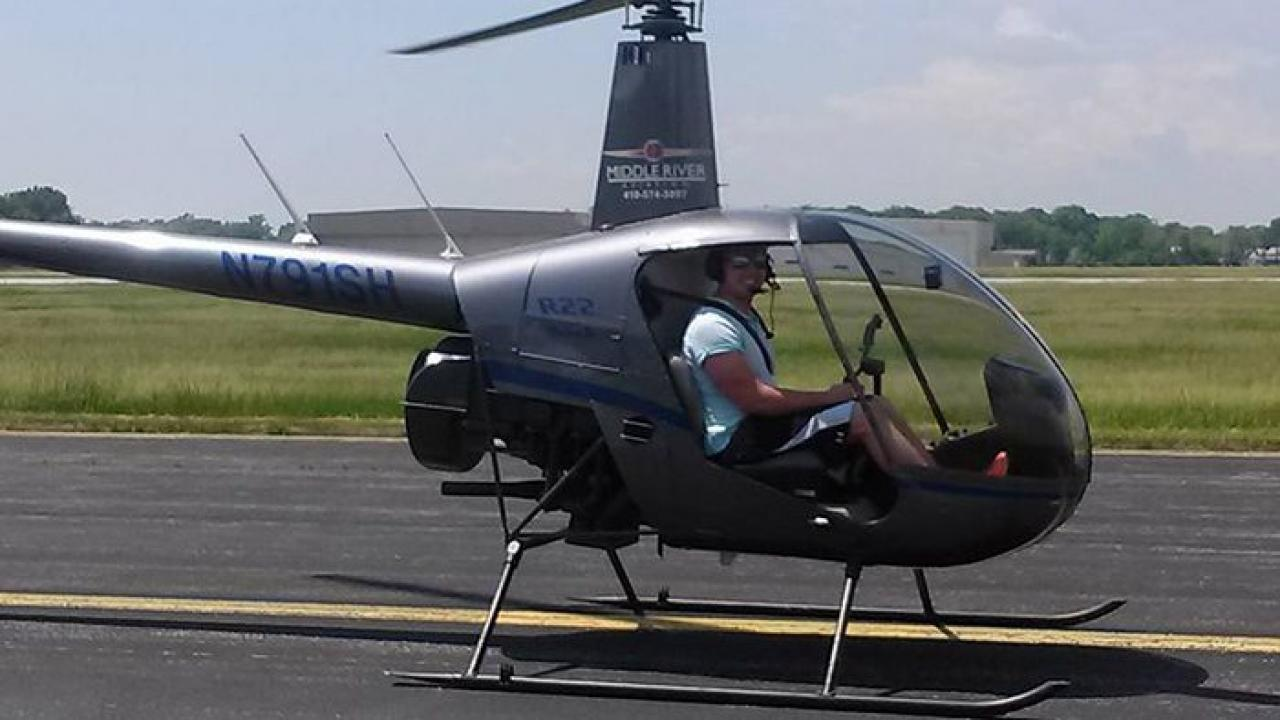Helicopter: (0, 0, 1136, 720)
